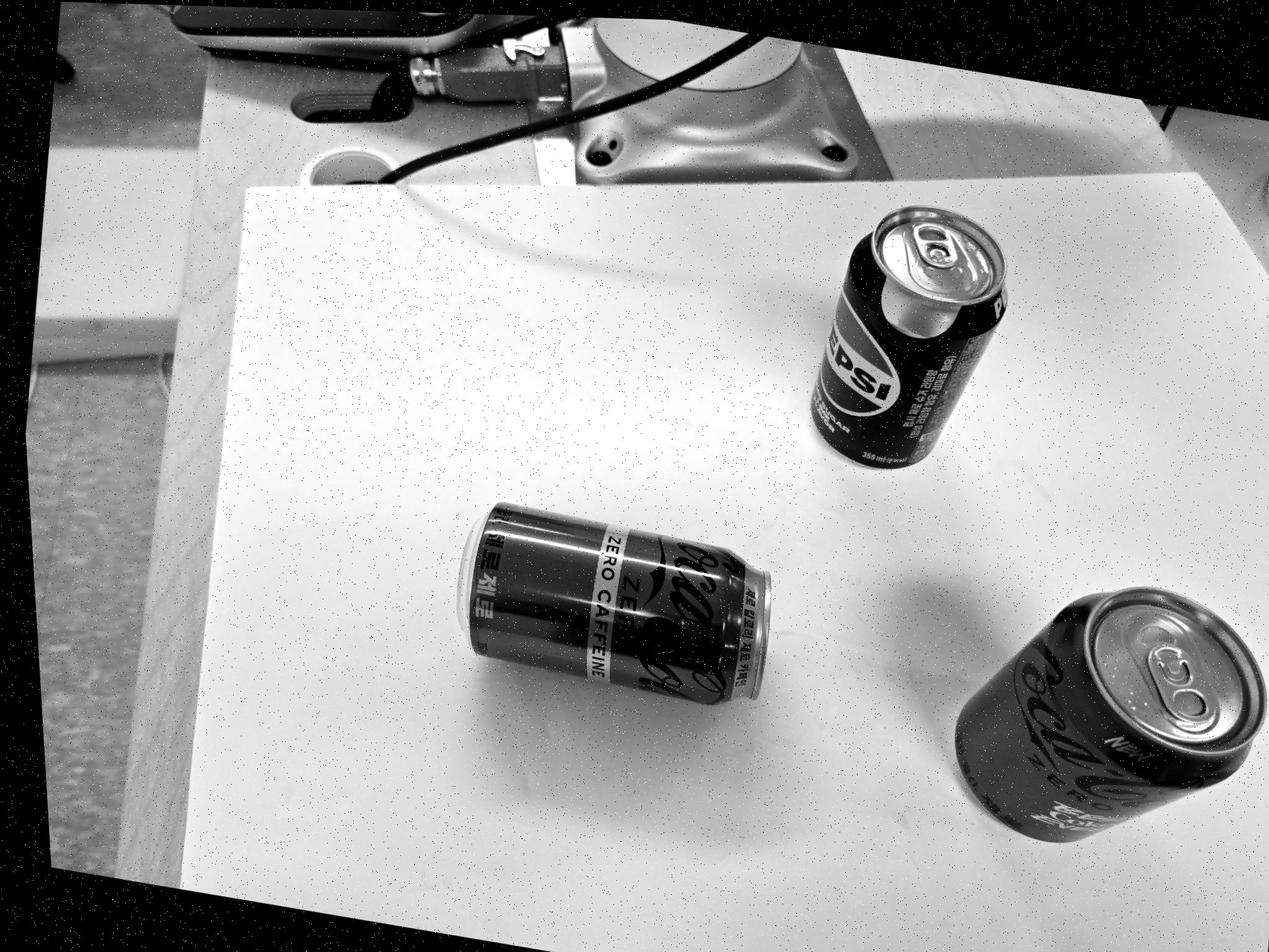can_coke_decaf: (448, 492, 778, 715)
can_coke_zero: (952, 587, 1268, 850)
can_pepsi_zero: (806, 209, 1012, 471)
